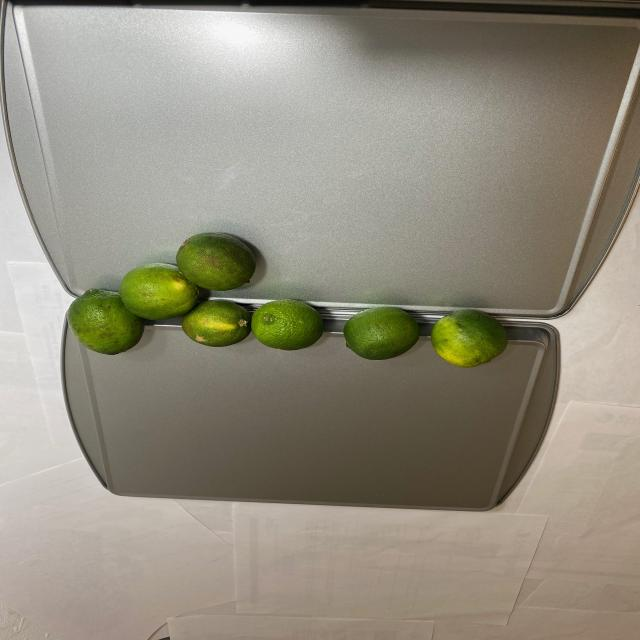lemon: (66, 234, 526, 370)
